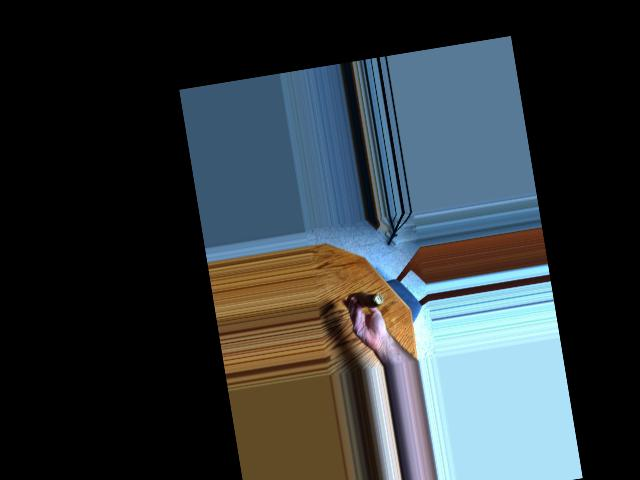sweet_potato: (344, 285, 391, 320)
